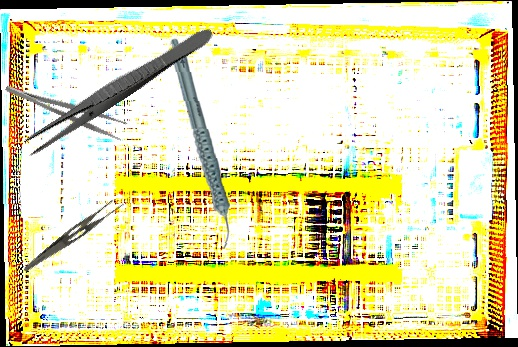Dressing Forceps: (19, 20, 217, 160), (22, 191, 126, 283), (3, 73, 129, 143)
Handpiece: (169, 36, 232, 251)
